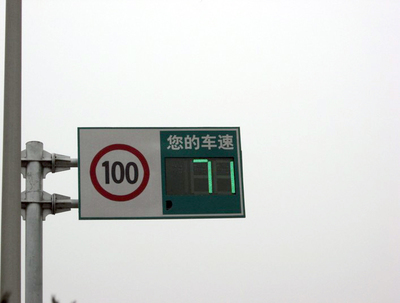Speed_limit_100km: (90, 144, 150, 201)
